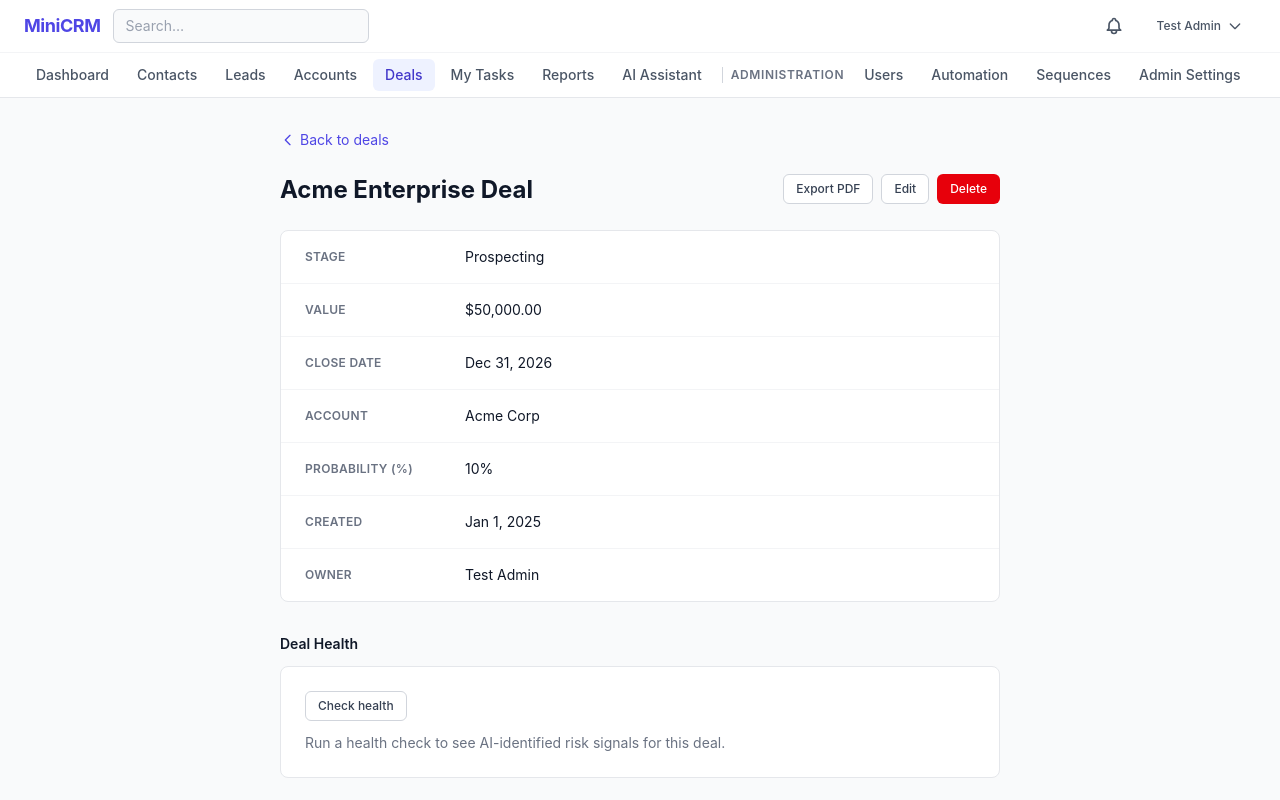
Scenario: DealDetailPage › Export PDF button › shows an error message when the export fails
Click the button with test id "deal-detail-export-pdf-button" at (828, 189), box [783,174,874,204]
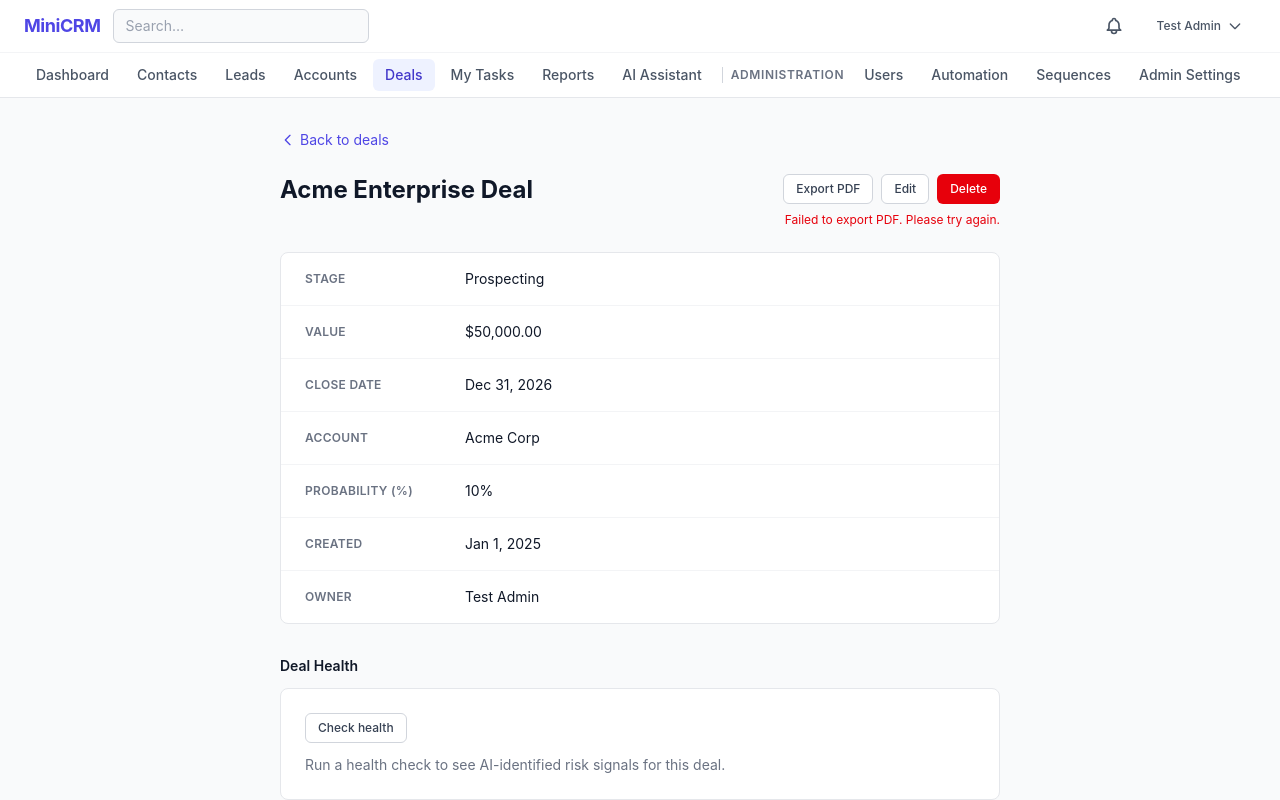
Expected: the message "Failed to export PDF. Please try again." is shown, [785,212,1000,228]
